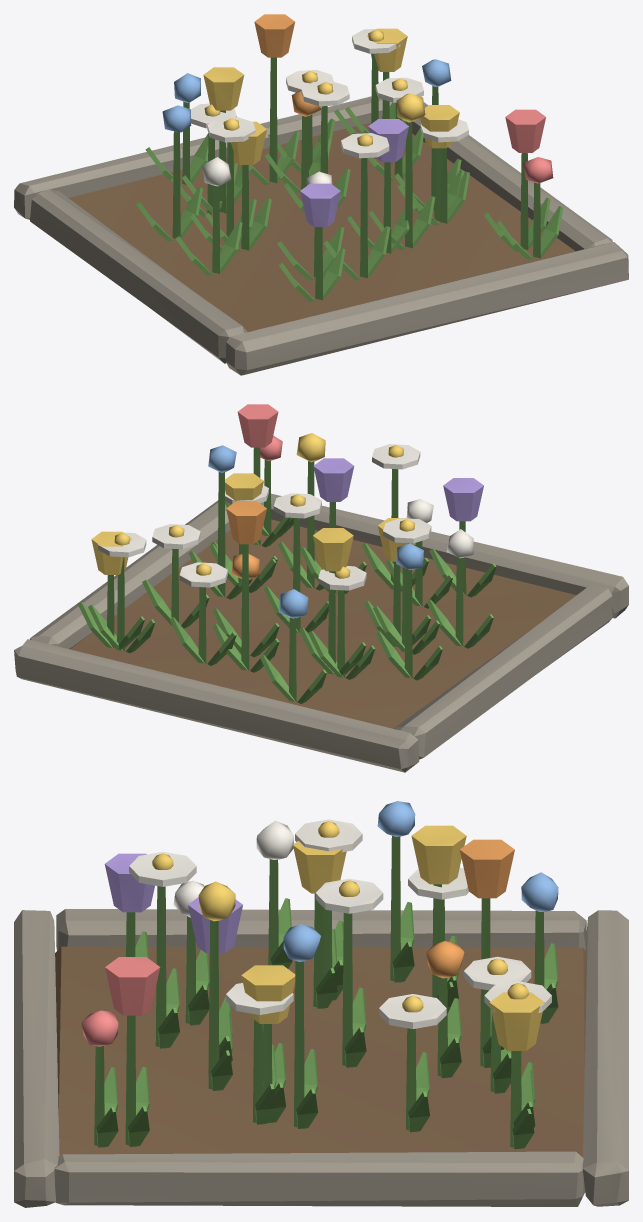
The model's file is flowers.glb.
3 renders of one model, top to bottom at view 1: azimuth 30°, elevation 25°; view 2: azimuth 150°, elevation 25°; view 3: azimuth 270°, elevation 25°, orthographic. The views are drawn at different scales.
Parts seen in each view (by area): view 1: flowers.v2.bed, flowers.v0.canopy, flowers.v2.canopy, flowers.v1.canopy; view 2: flowers.v2.bed, flowers.v0.canopy, flowers.v1.canopy, flowers.v2.canopy; view 3: flowers.v2.bed, flowers.v0.canopy, flowers.v2.canopy, flowers.v1.canopy.
Boxes of the visible parts, x1,y1,x2,y2 form: flowers.v2.bed: (14,96,628,375); flowers.v0.canopy: (182,14,550,301); flowers.v2.canopy: (136,59,563,280); flowers.v1.canopy: (170,28,469,279); flowers.v2.bed: (14,493,628,772); flowers.v0.canopy: (77,404,496,674); flowers.v1.canopy: (88,444,439,679); flowers.v2.canopy: (188,433,493,703); flowers.v2.bed: (14,909,628,1207); flowers.v0.canopy: (104,825,544,1149); flowers.v2.canopy: (81,801,558,1147); flowers.v1.canopy: (129,819,551,1132).
Bounding box in the file's own units: 1 × 0.4308 × 1.
